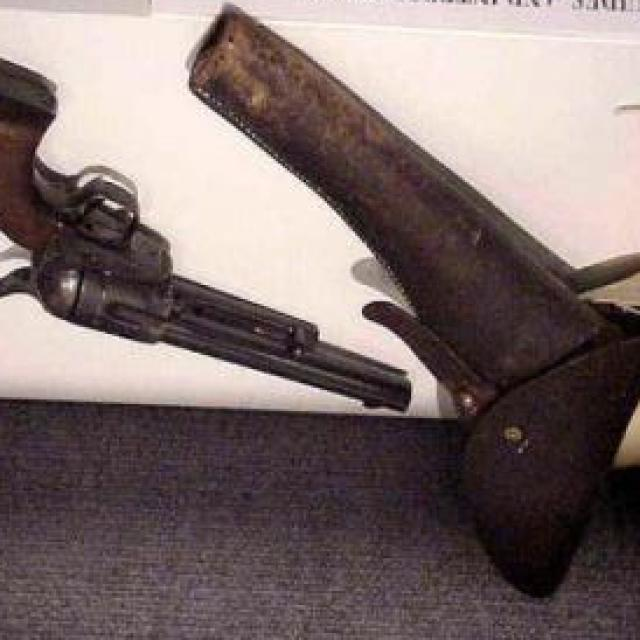pistol: (0, 51, 411, 416)
